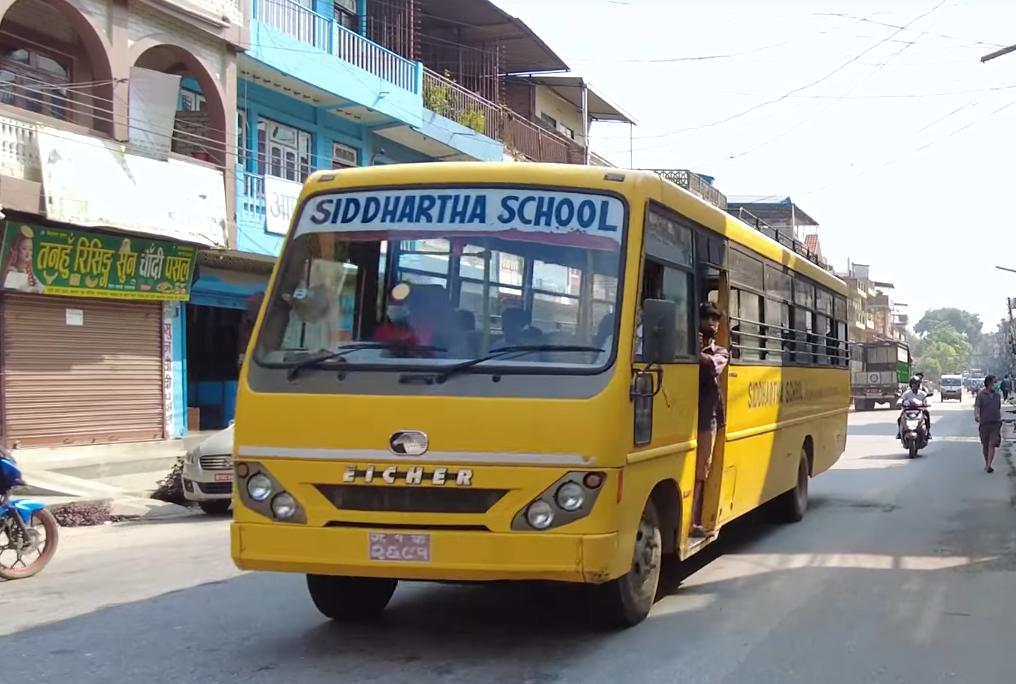school_bus: (218, 150, 862, 636)
scooter: (896, 394, 943, 465)
